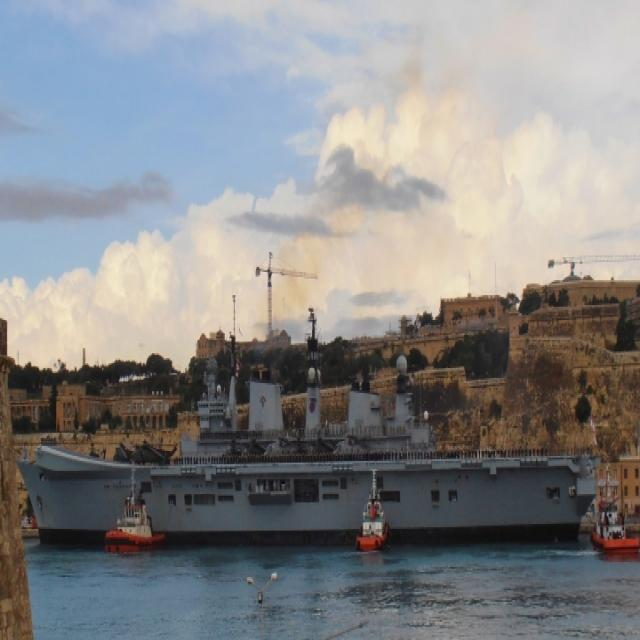Portanaves: (14, 331, 603, 555)
